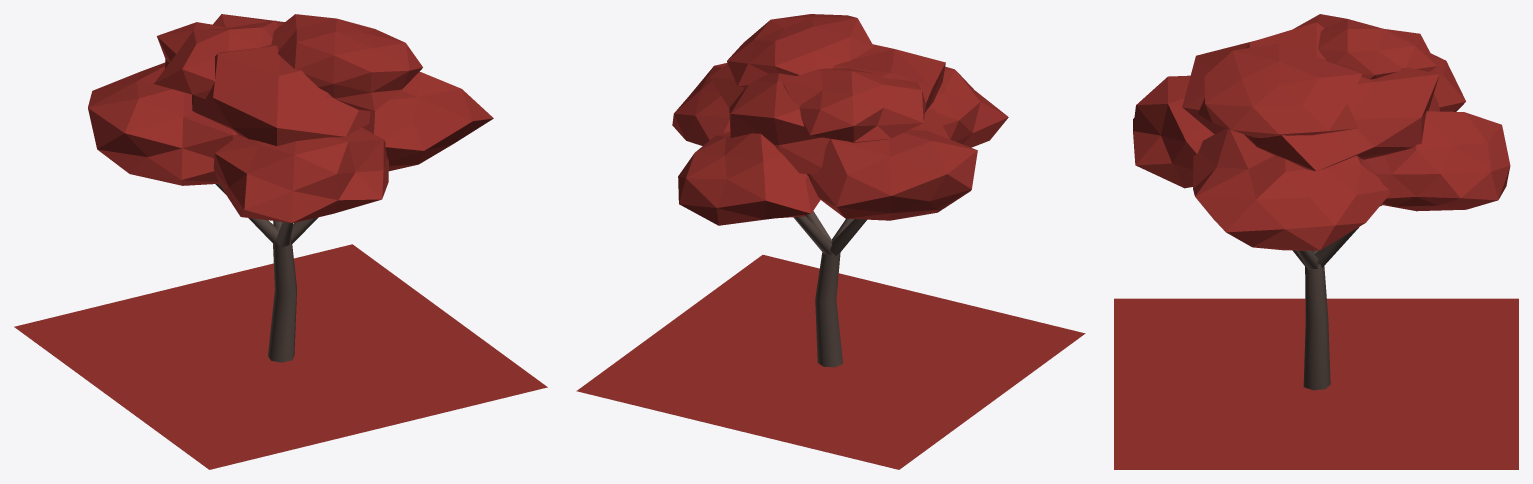
The picture shows the model from 3 angles, left to right: view 1: azimuth 30°, elevation 25°; view 2: azimuth 150°, elevation 25°; view 3: azimuth 270°, elevation 25°; orthographic projection. The views are drawn at different scales.
Visible parts, largest first — view 1: Footprint, Canopy, Trunk, Branches; view 2: Footprint, Canopy, Trunk, Branches; view 3: Footprint, Canopy, Trunk, Branches.
Boxes of the visible parts, x1,y1,x2,y2 form: Footprint: [14, 244, 547, 469]; Canopy: [88, 14, 493, 223]; Trunk: [268, 241, 296, 362]; Branches: [215, 183, 318, 248]; Footprint: [576, 255, 1085, 469]; Canopy: [672, 14, 1008, 225]; Trunk: [815, 252, 842, 367]; Branches: [793, 211, 866, 256]; Footprint: [1114, 298, 1518, 469]; Canopy: [1133, 14, 1510, 250]; Trunk: [1303, 264, 1330, 390]; Branches: [1292, 205, 1382, 270].
Bounding box in the file's own units: 3.24 × 3.08 × 3.24.
